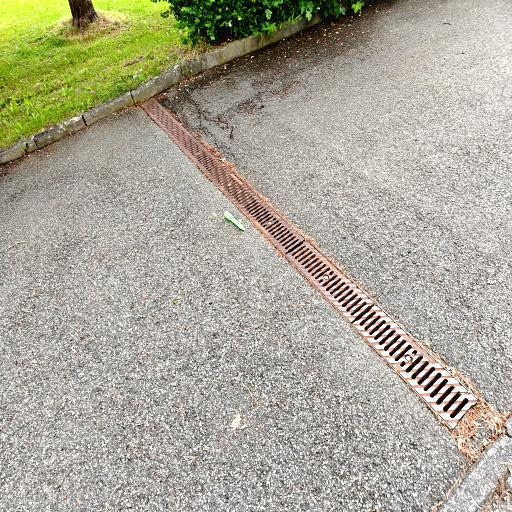Probe-Detection: (224, 211, 245, 230)
